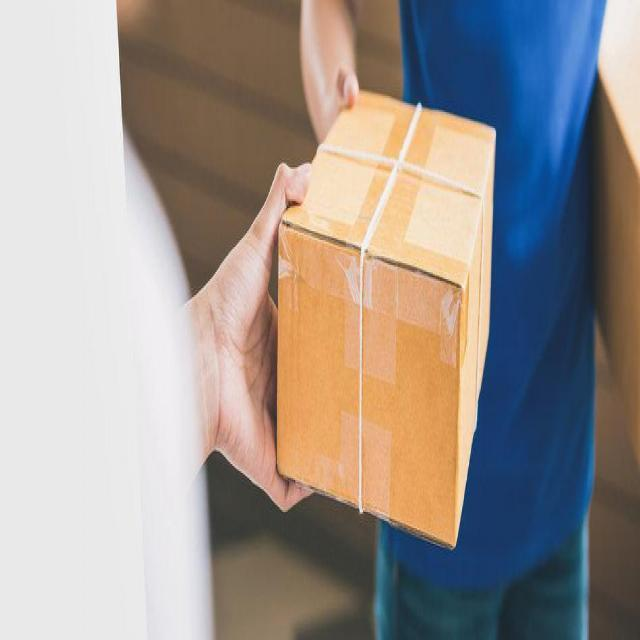box: (271, 78, 499, 551)
